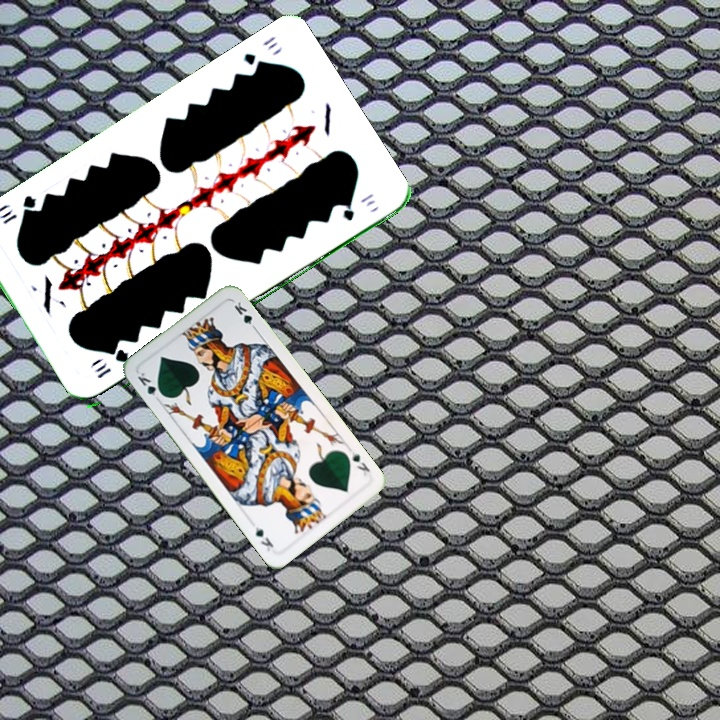G10: (239, 32, 279, 74), (91, 347, 131, 381)
GK: (134, 368, 167, 404), (347, 447, 373, 478)
